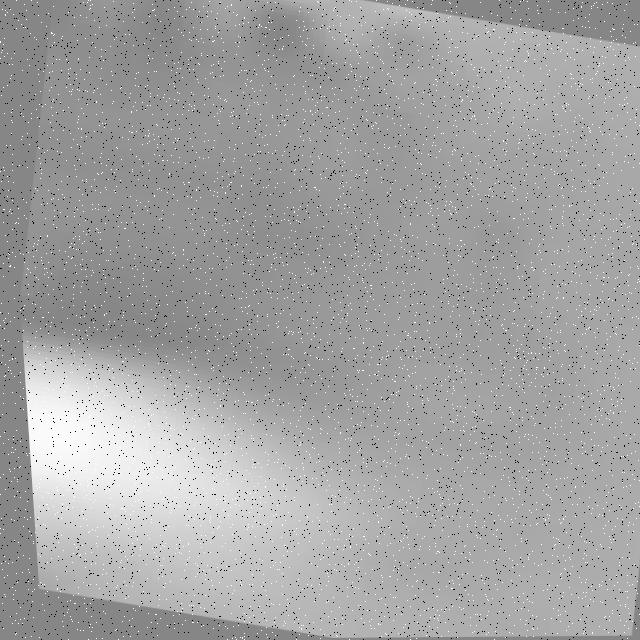person: (18, 328, 359, 609)
